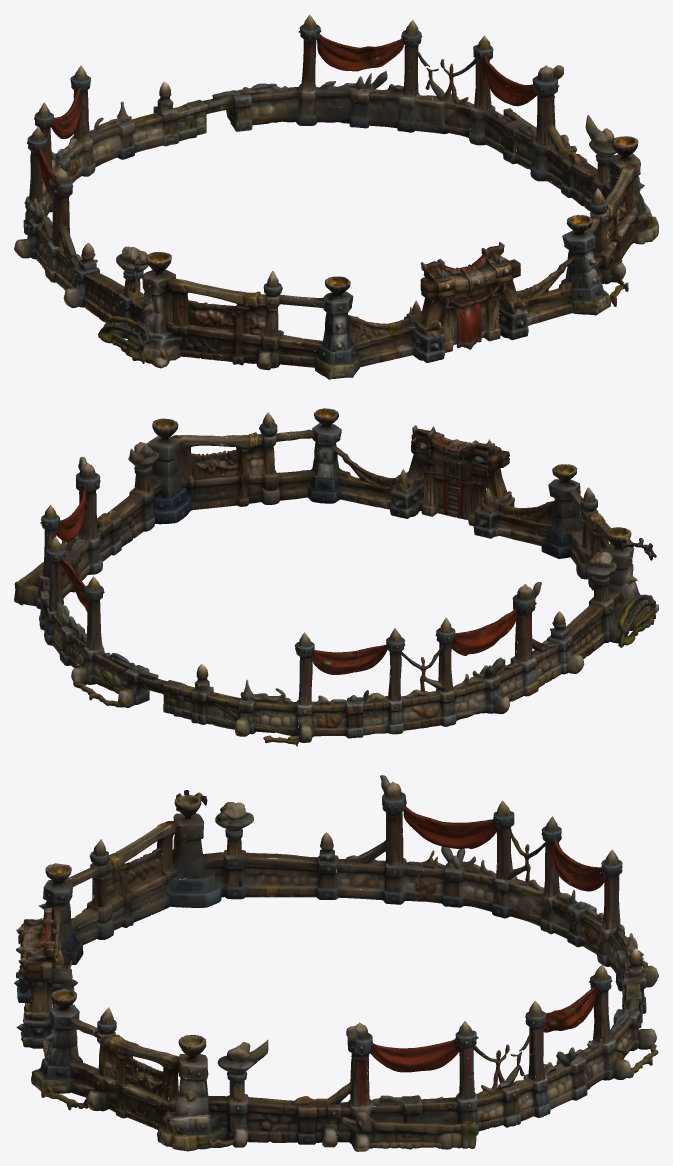
File: nagrand-outer-ring.glb
The picture shows the model from 3 angles, top to bottom: view 1: azimuth 30°, elevation 25°; view 2: azimuth 150°, elevation 25°; view 3: azimuth 270°, elevation 25°; orthographic projection. The views are drawn at different scales.
Visible parts, largest first — view 1: GF_Nagrand_Outer_Ring; view 2: GF_Nagrand_Outer_Ring; view 3: GF_Nagrand_Outer_Ring.
Boxes of the visible parts, x1,y1,x2,y2 form: GF_Nagrand_Outer_Ring: [14, 14, 658, 379]; GF_Nagrand_Outer_Ring: [14, 408, 658, 746]; GF_Nagrand_Outer_Ring: [14, 775, 658, 1151].
Bounding box in the file's own units: 0.9995 × 0.2068 × 0.991.
Materials: 1 (1 with a texture image).
